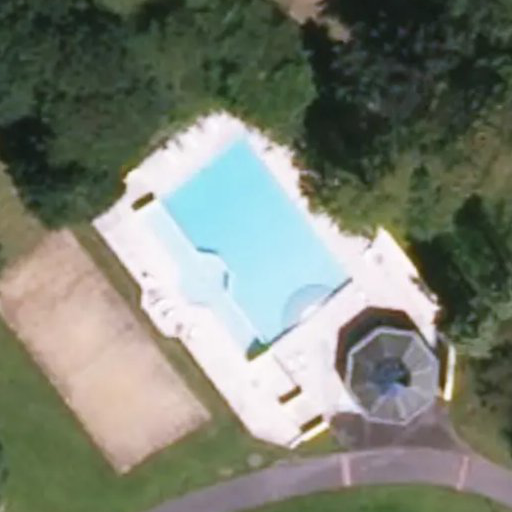pool: (157, 200, 354, 284)
